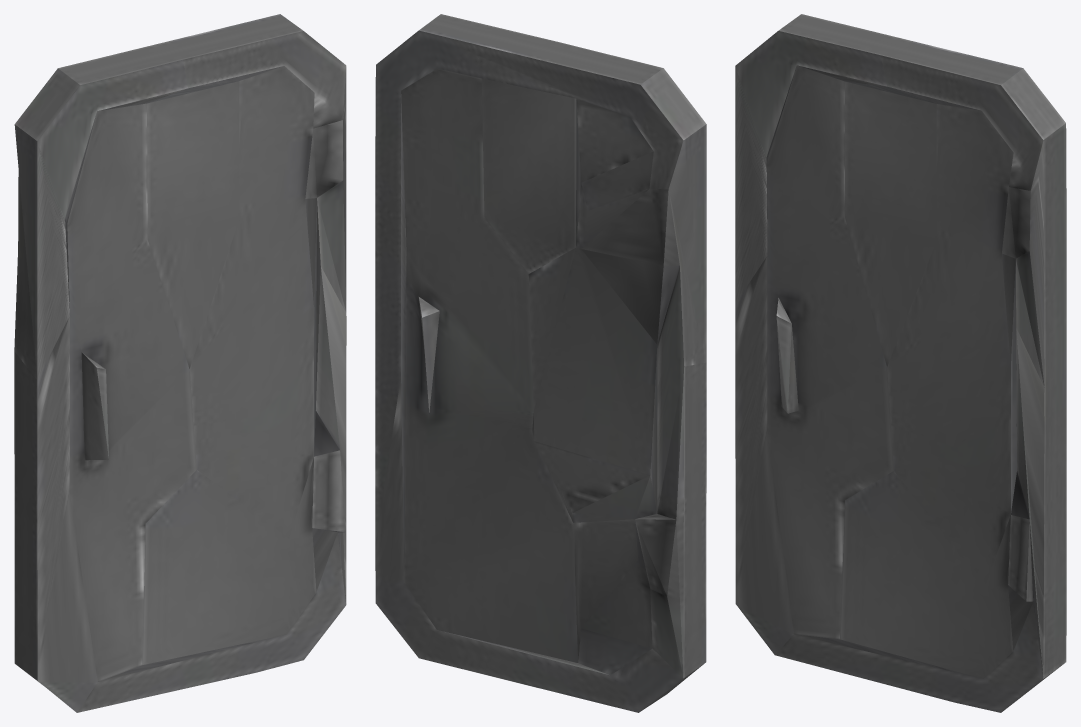
The model's file is shared_flak_tower_large_option__entrance_door_leaf_lod2.glb.
The picture shows the model from 3 angles, left to right: view 1: azimuth 30°, elevation 25°; view 2: azimuth 150°, elevation 25°; view 3: azimuth 330°, elevation 25°; orthographic projection.
Visible parts, largest first — view 1: mesh_node; view 2: mesh_node; view 3: mesh_node.
Part boxes in pixels (x1,y1,x2,y2): mesh_node: (14, 14, 346, 712); mesh_node: (375, 14, 706, 712); mesh_node: (735, 14, 1066, 712).
Size of the model in its own units: 1.53 by 2.99 by 0.3536.
Materials: 1 (1 with a texture image).
